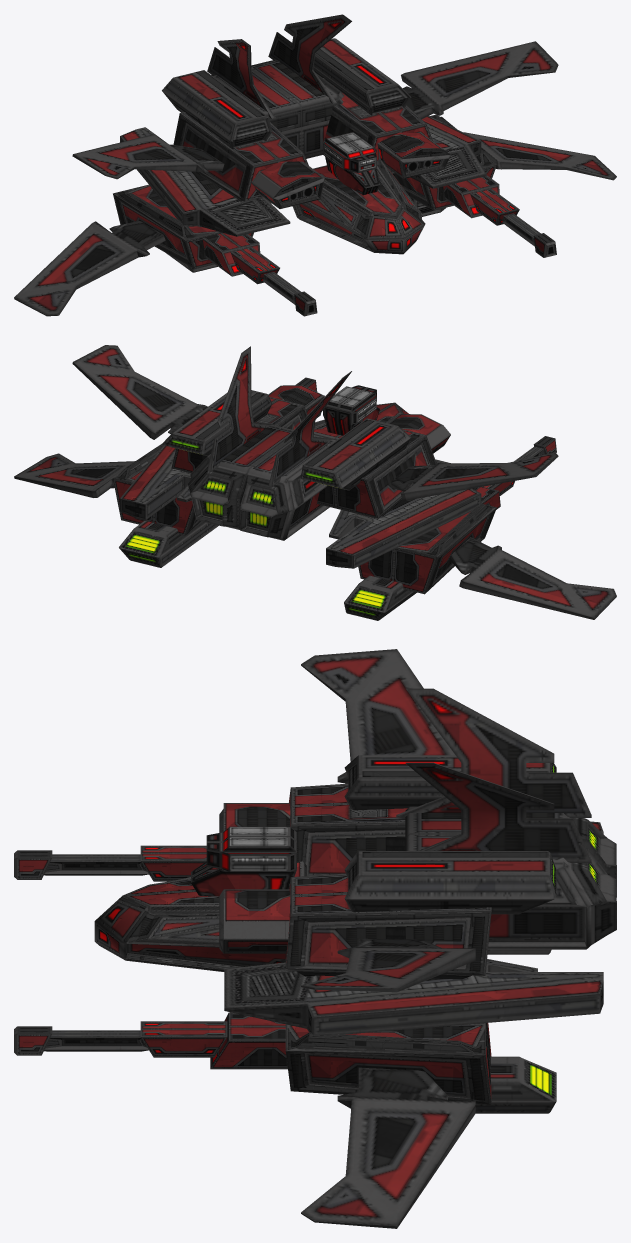
File: BFP_MediumStarship01.FBX
3 views of the same model, one above another, from view 1: azimuth 30°, elevation 25°; view 2: azimuth 150°, elevation 25°; view 3: azimuth 270°, elevation 25° (orthographic). The views are drawn at different scales.
Parts seen in each view (by area): view 1: WingHullSection_LowerRight, MainHullSection, RearSideHull_Right, WingHullSection_LowerLeft, RearSideHull_Left, SideWing_UpperLeft, TailFins, SideWing_UpperRight, Cannon_Right, Cannon_Left, BFP_MediumCockpit01, MissileLauncher_Right (+1 smaller); view 2: WingHullSection_LowerRight, WingHullSection_LowerLeft, MainHullSection, RearSideHull_Right, SideWing_UpperLeft, TailFins, SideWing_UpperRight, RearSideHull_Left, BFP_MediumCockpit01, MissileLauncher_Right, Cannon_Right, MissileLauncher_Left; view 3: WingHullSection_LowerLeft, RearSideHull_Left, MainHullSection, TailFins, RearSideHull_Right, SideWing_UpperRight, Cannon_Left, BFP_MediumCockpit01, SideWing_UpperLeft, Cannon_Right, MissileLauncher_Left, MissileLauncher_Right.
Part boxes in pixels (x1,y1,x2,y2): WingHullSection_LowerRight: (14,127,290,316); MainHullSection: (211,60,425,254); RearSideHull_Right: (162,70,308,201); WingHullSection_LowerLeft: (388,114,616,216); RearSideHull_Left: (313,38,433,160); SideWing_UpperLeft: (401,41,558,119); TailFins: (207,14,351,118); SideWing_UpperRight: (72,134,224,179); Cannon_Right: (202,233,317,316); Cannon_Left: (443,175,556,257); BFP_MediumCockpit01: (323,132,379,195); MissileLauncher_Right: (251,161,324,208); WingHullSection_LowerRight: (326,459,616,620); WingHullSection_LowerLeft: (14,444,218,567); MainHullSection: (188,402,408,540); RearSideHull_Right: (300,418,436,518); SideWing_UpperLeft: (72,345,207,439); TailFins: (207,346,351,486); SideWing_UpperRight: (391,452,558,500); RearSideHull_Left: (162,390,307,472); BFP_MediumCockpit01: (323,385,379,435); MissileLauncher_Right: (387,414,450,453); Cannon_Right: (476,436,556,509); MissileLauncher_Left: (268,385,324,417); WingHullSection_LowerLeft: (224,959,603,1228); RearSideHull_Left: (285,851,556,979); MainHullSection: (94,803,616,971); TailFins: (396,688,591,862); RearSideHull_Right: (289,755,556,875); SideWing_UpperRight: (301,649,455,783); Cannon_Left: (14,1012,287,1069); BFP_MediumCockpit01: (191,826,296,896); SideWing_UpperLeft: (301,938,475,992); Cannon_Right: (14,845,206,881); MissileLauncher_Left: (219,889,290,953); MissileLauncher_Right: (219,803,290,832).
Size of the model in its own units: 1673 by 544 by 1000.
Materials: 2 (2 with a texture image).
